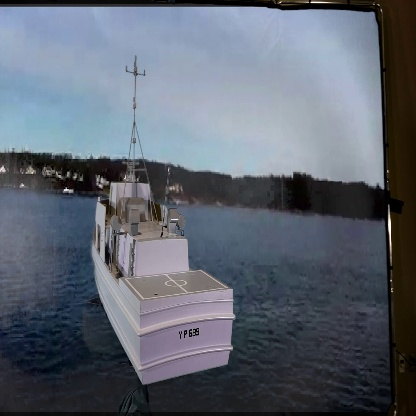YP689: (90, 59, 235, 385)
